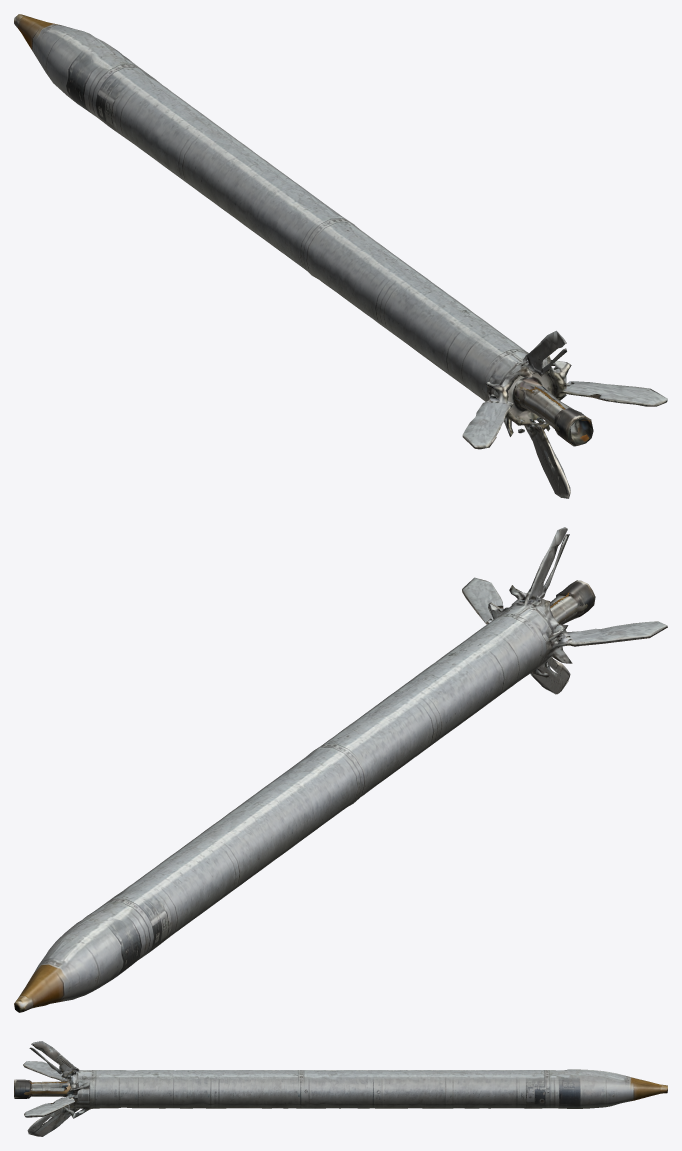
Rendered from BK_RocketS5.fbx.
The picture shows the model from 3 angles, top to bottom: view 1: azimuth 30°, elevation 25°; view 2: azimuth 150°, elevation 25°; view 3: azimuth 270°, elevation 25°; orthographic projection. The views are drawn at different scales.
Parts seen in each view (by area): view 1: texture_mapping; view 2: texture_mapping; view 3: texture_mapping.
Part boxes in pixels (x1,y1,x2,y2): texture_mapping: (14, 14, 667, 498); texture_mapping: (14, 527, 667, 1012); texture_mapping: (14, 1041, 667, 1136).
Bounding box in the file's own units: 0.1979 × 0.9969 × 0.1607.
Materials: 1 (1 with a texture image).
